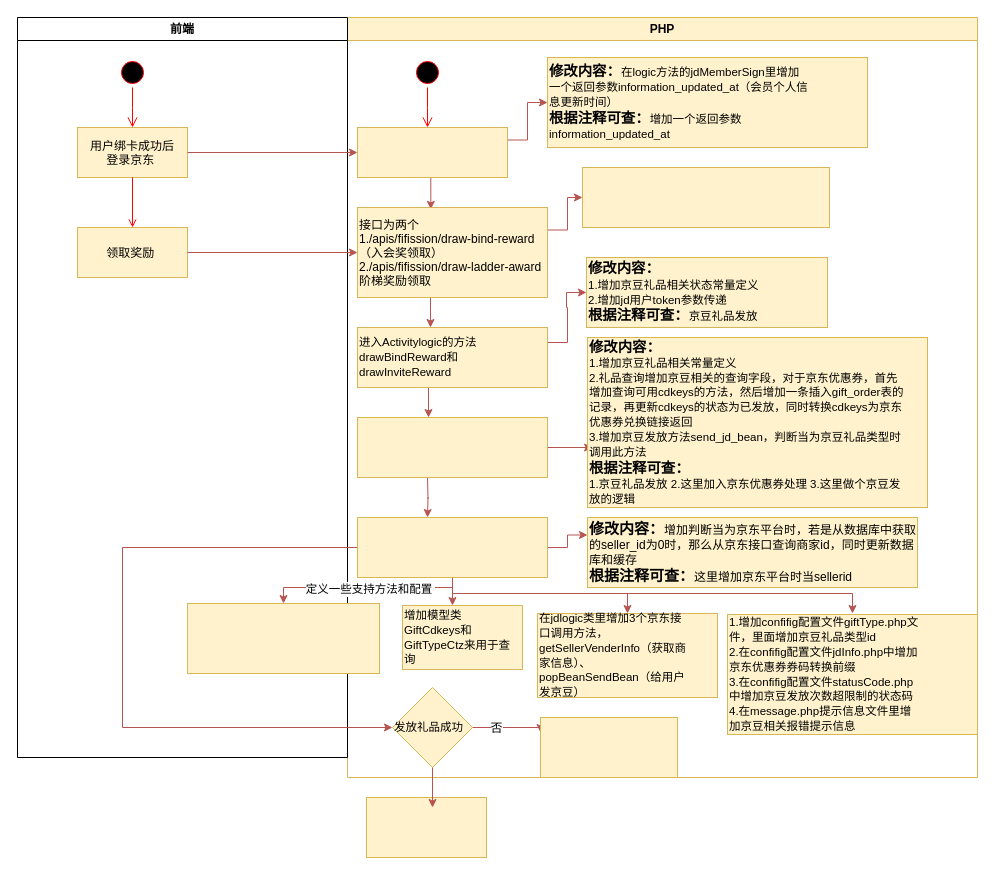
Image size: 995x875. Some labels were removed from this diagram. The shapes that lost their labels are listed below. From the top down, each one's centre as x and y in pixels, then its label:
At [432,152]: "接⼝地址为 /apis/user/loginjingdong".
At [706,197]: "修改内容： 增加了⽤户 token 传递参数 jdToken 根据注释可查： 增加 jd ⽤户 token 参数".
At [452,447]: "进⼊礼品类型奖励领取⽅法 grantGiftReward （此⽅法两个 领奖接⼝共⽤）".
At [452,547]: "发京豆里有获得商家id，故进入MerchantLogic类的getInfo方法".
At [283,638]: "model 模块 ActRewardGrantLog 类中增加 getUserHasBeanReward ⽅ 法，此⽅法时判断京⾖领取资 格".
At [609,747]: "记录错误⽇志，返回 错误信息".
At [426,827]: "返回成功，结束".
